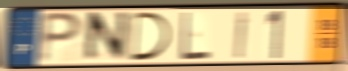1: (266, 9, 284, 61)
D: (129, 10, 174, 62)
I: (233, 10, 250, 61)
L: (180, 10, 212, 62)
N: (81, 9, 131, 65)
P: (36, 10, 85, 65)
